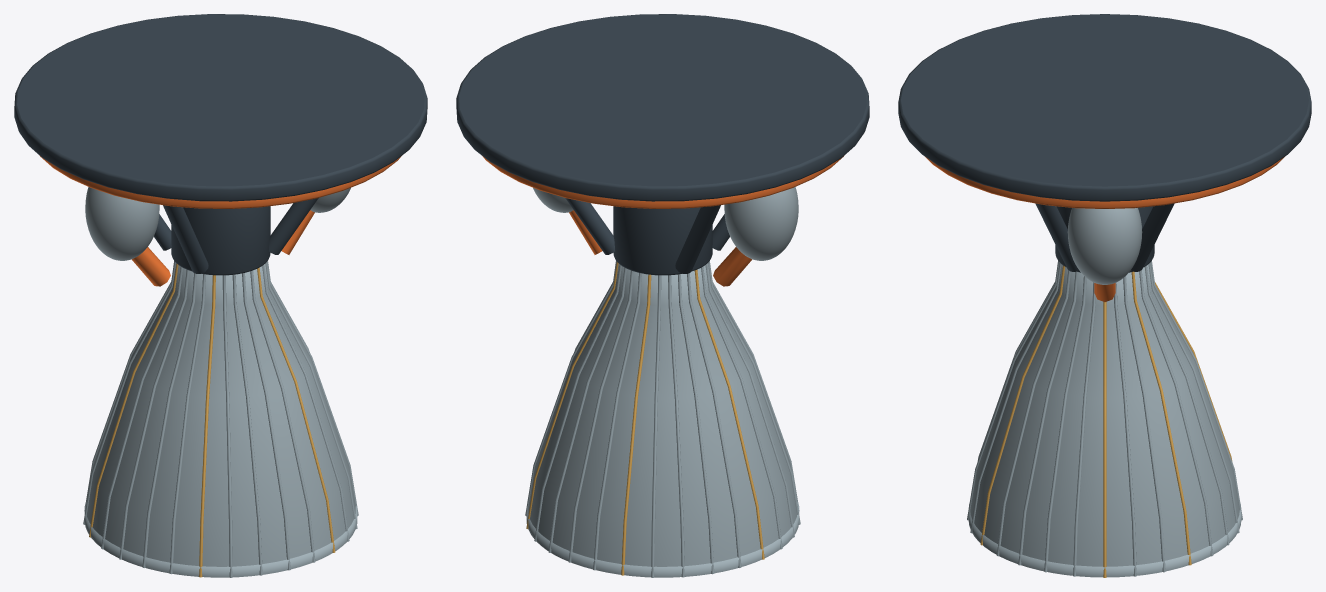
File: engineSeaMedium.glb
The picture shows the model from 3 angles, left to right: view 1: azimuth 30°, elevation 25°; view 2: azimuth 150°, elevation 25°; view 3: azimuth 270°, elevation 25°; orthographic projection.
Parts seen in each view (by area): view 1: EngineMount, GimbalNozzle; view 2: EngineMount, GimbalNozzle; view 3: EngineMount, GimbalNozzle.
Part boxes in pixels (x1,y1,x2,y2): EngineMount: (14,14,427,286); GimbalNozzle: (83,261,358,577); EngineMount: (456,14,869,286); GimbalNozzle: (525,261,800,577); EngineMount: (898,14,1311,301); GimbalNozzle: (967,261,1242,577).
Bounding box in the file's own units: 1.25 × 1.4 × 1.25.
